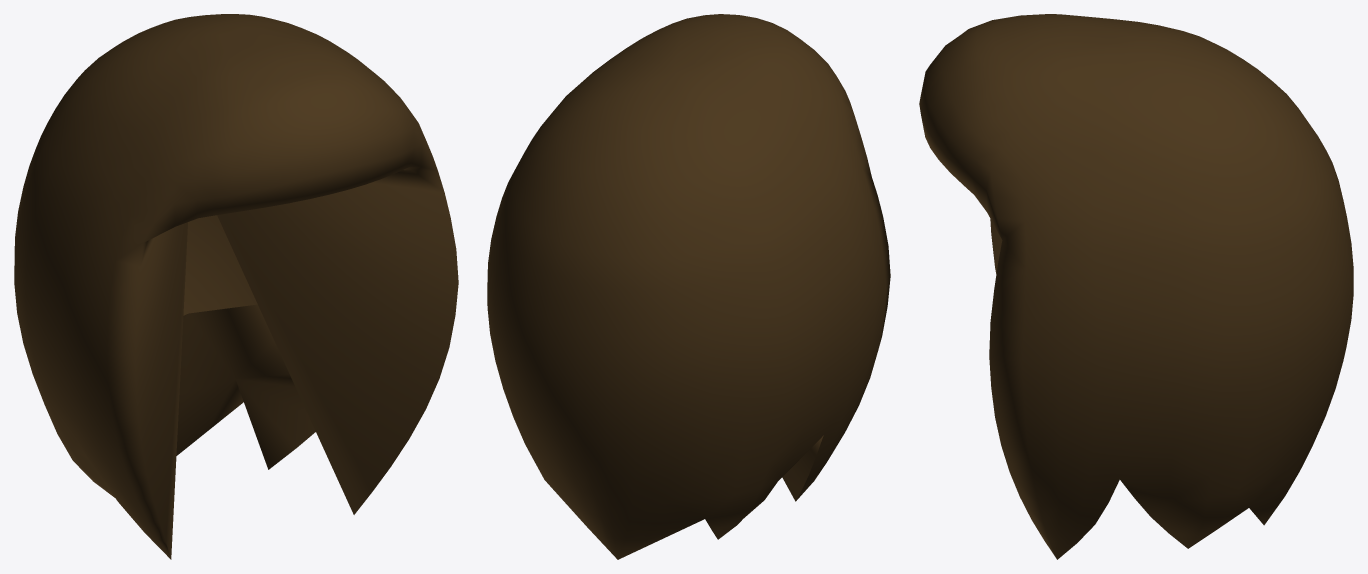
File: hair_hair_122.gltf
3 renders of one model, left to right at view 1: azimuth 30°, elevation 25°; view 2: azimuth 150°, elevation 25°; view 3: azimuth 270°, elevation 25°, orthographic. The views are drawn at different scales.
Parts seen in each view (by area): view 1: hair.122; view 2: hair.122; view 3: hair.122.
Boxes of the visible parts, <box> form: hair.122: <box>14,14,458,559</box>; hair.122: <box>487,14,890,559</box>; hair.122: <box>919,14,1353,559</box>.
Size of the model in its own units: 0.763 by 1 by 0.7991.
